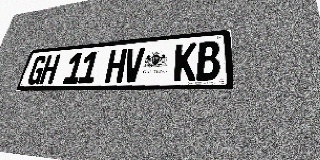1: (77, 51, 100, 83), (63, 52, 85, 84)
B: (196, 41, 220, 80)
G: (26, 56, 48, 85)
H: (104, 49, 127, 83), (39, 54, 61, 84)
K: (173, 43, 197, 81)
V: (122, 47, 145, 82)
